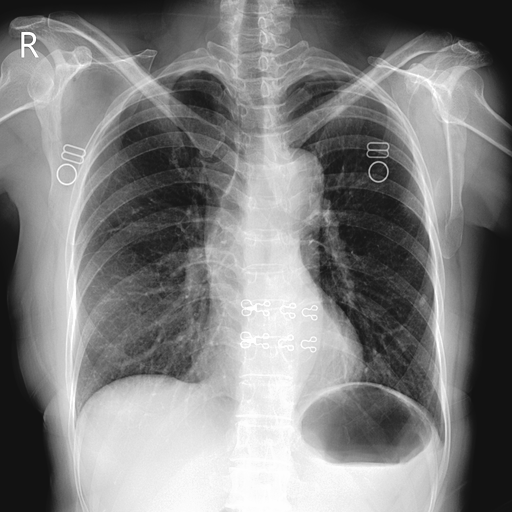Consolidation: (202, 150, 326, 277), (272, 149, 323, 203)
Lung Opacity: (418, 294, 428, 311)
Other lesion: (418, 292, 429, 307)
Pulmonary fibrosis: (418, 294, 428, 311)
